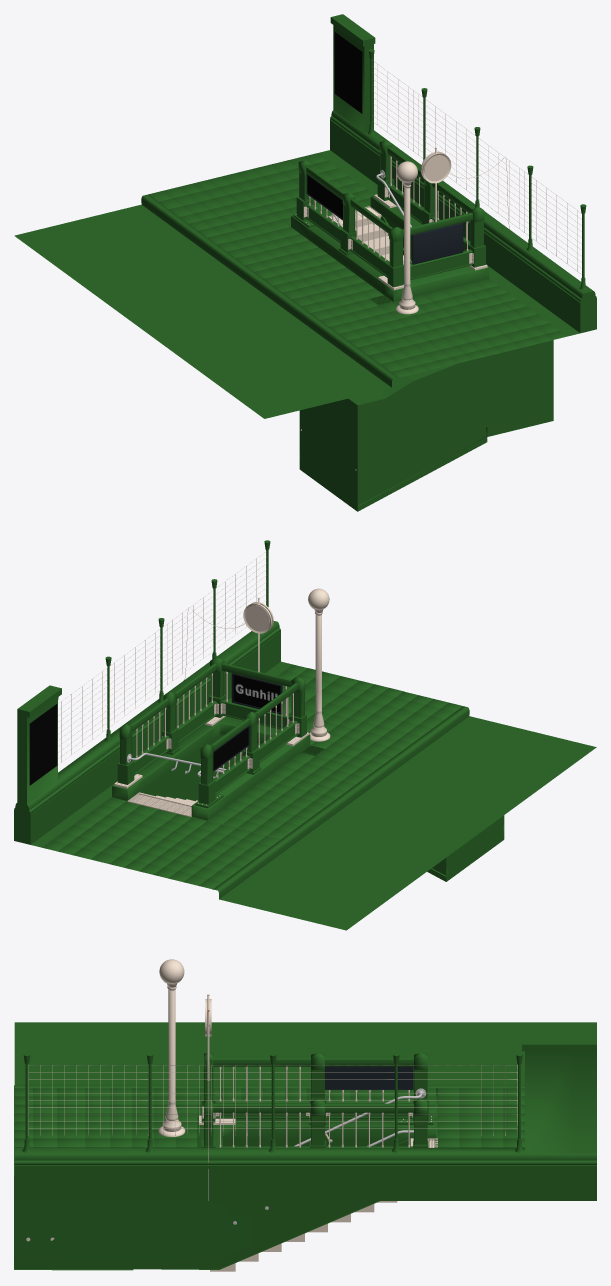
Rendered from Ecleposs Subway.fbx.
3 renders of one model, top to bottom at view 1: azimuth 30°, elevation 25°; view 2: azimuth 150°, elevation 25°; view 3: azimuth 270°, elevation 25°, orthographic. The views are drawn at different scales.
Visible parts, largest first — view 1: Plane_1; view 2: Plane_1; view 3: Plane_1.
Boxes of the visible parts, x1,y1,x2,y2 form: Plane_1: (14,14,596,511); Plane_1: (14,540,596,930); Plane_1: (14,959,596,1271).
Size of the model in its own units: 39294 by 30575 by 51253.
Materials: 8 (3 with a texture image).
